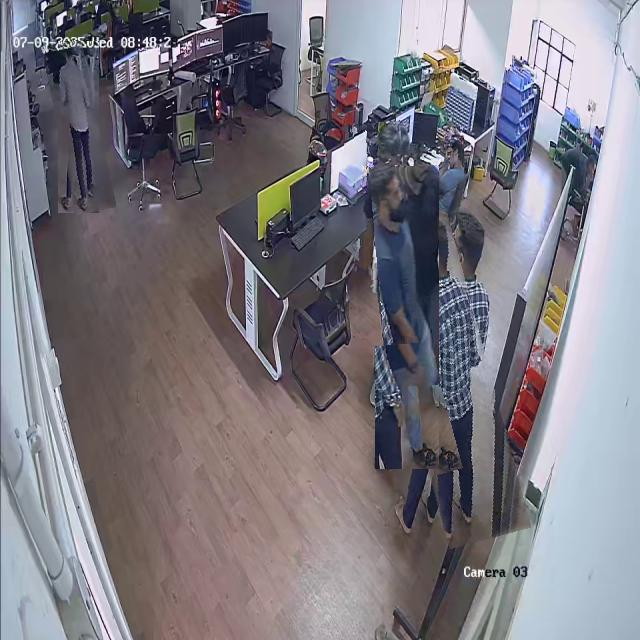person: (384, 212, 511, 546), (375, 166, 439, 469), (347, 121, 415, 346), (50, 40, 107, 214)
